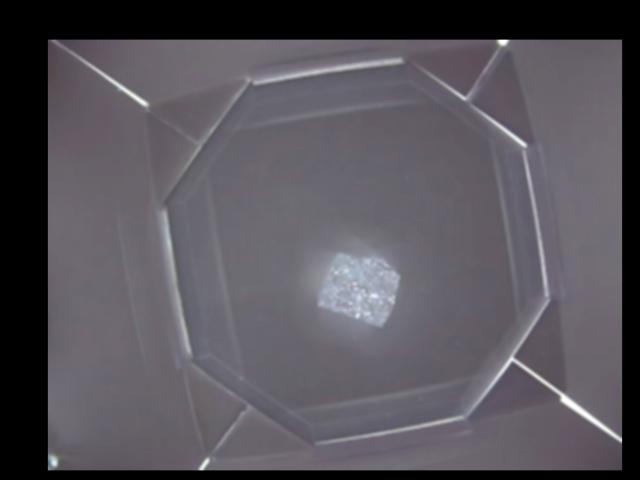China: (317, 250, 396, 325)
